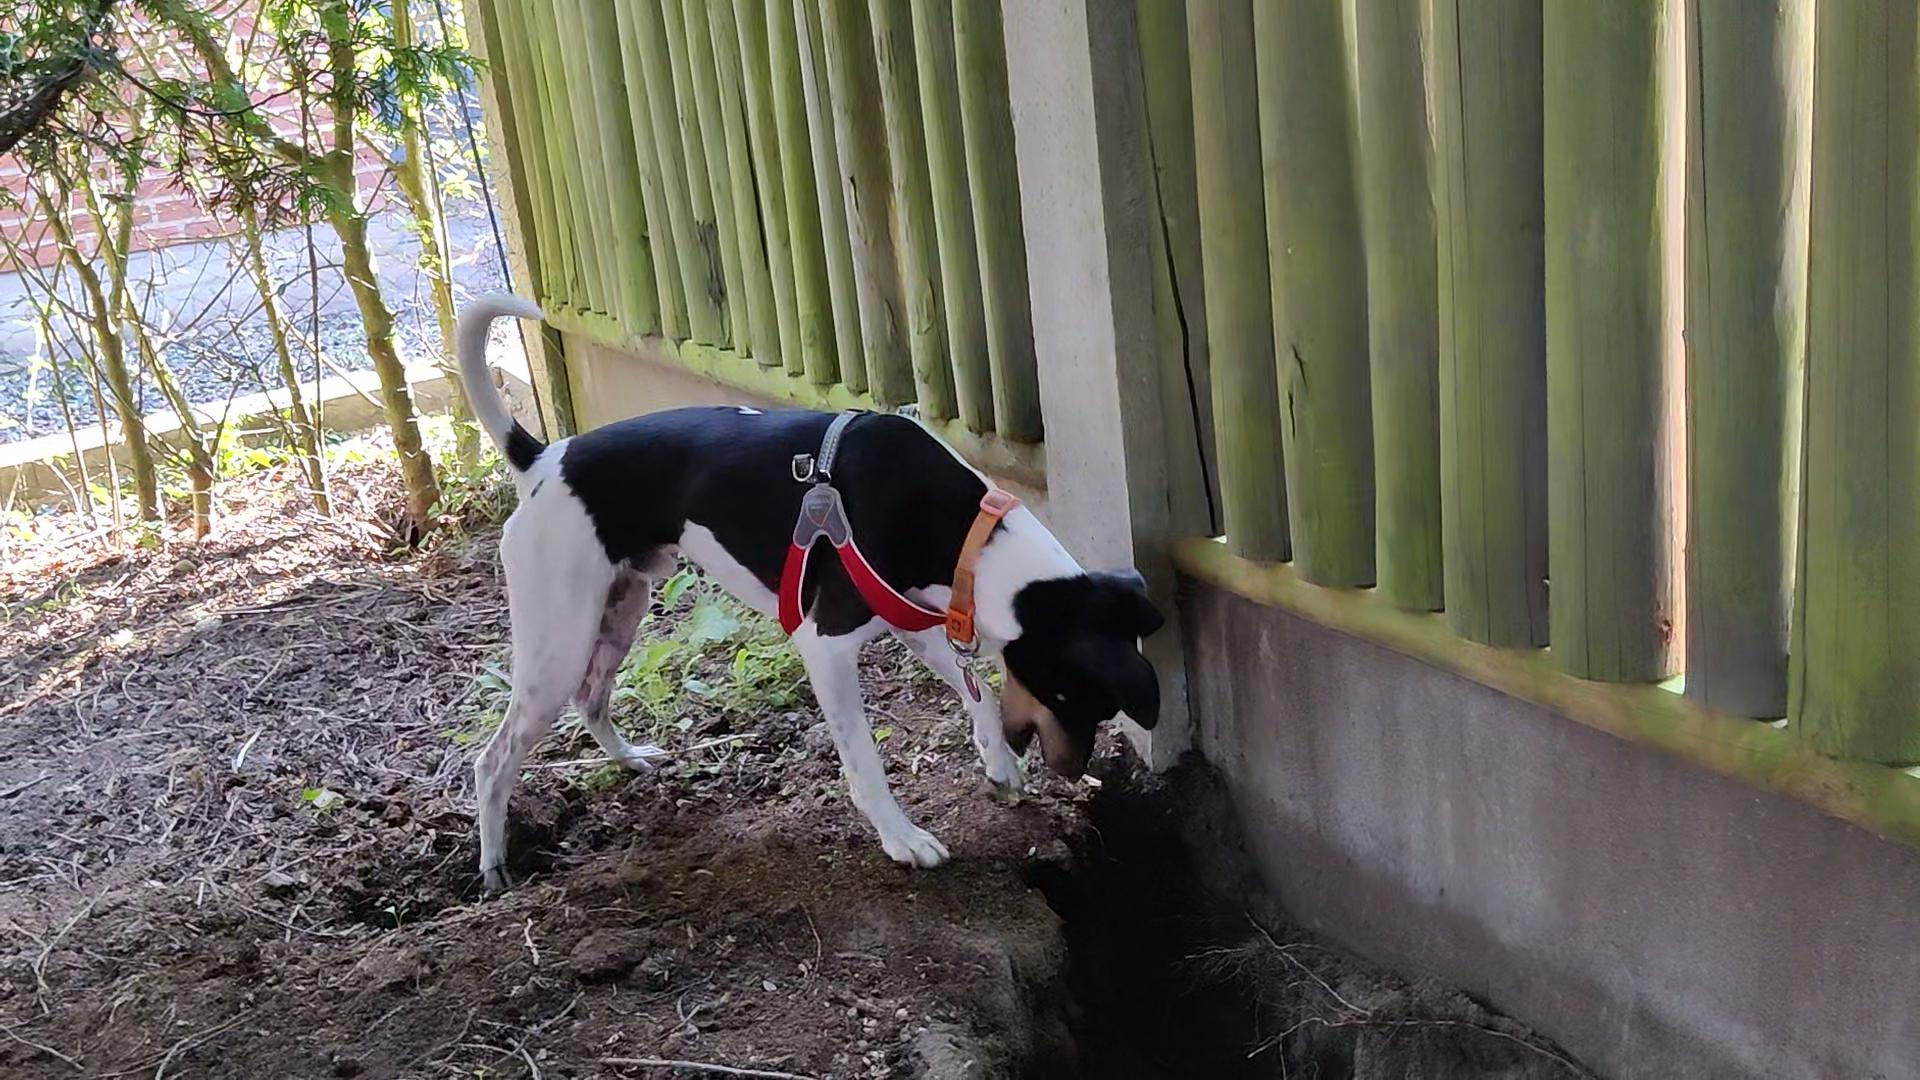Dog: (435, 273, 1191, 901)
